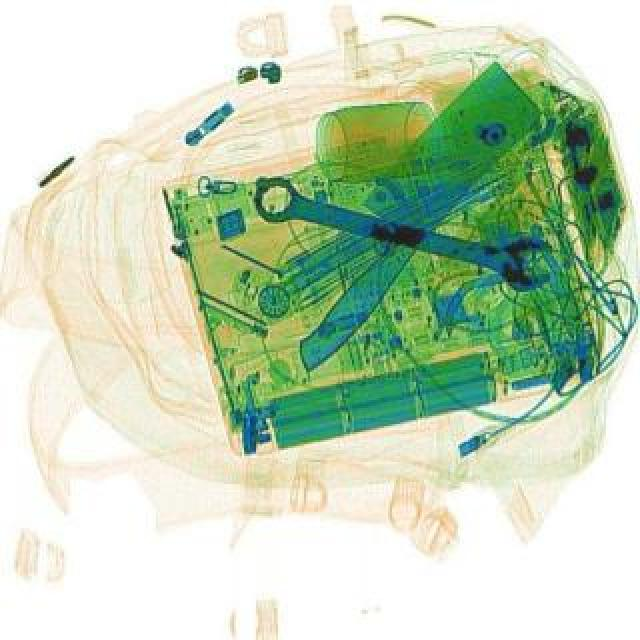knife: (246, 62, 562, 380)
scissors: (248, 172, 564, 300)
